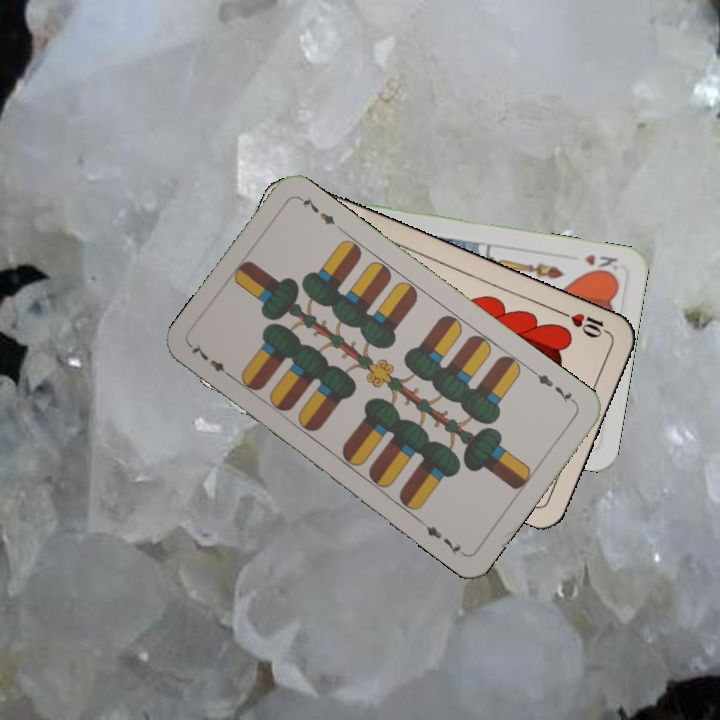E7: (186, 339, 237, 382), (529, 366, 580, 407)
H10: (556, 307, 612, 341)
HK: (580, 250, 621, 278)
